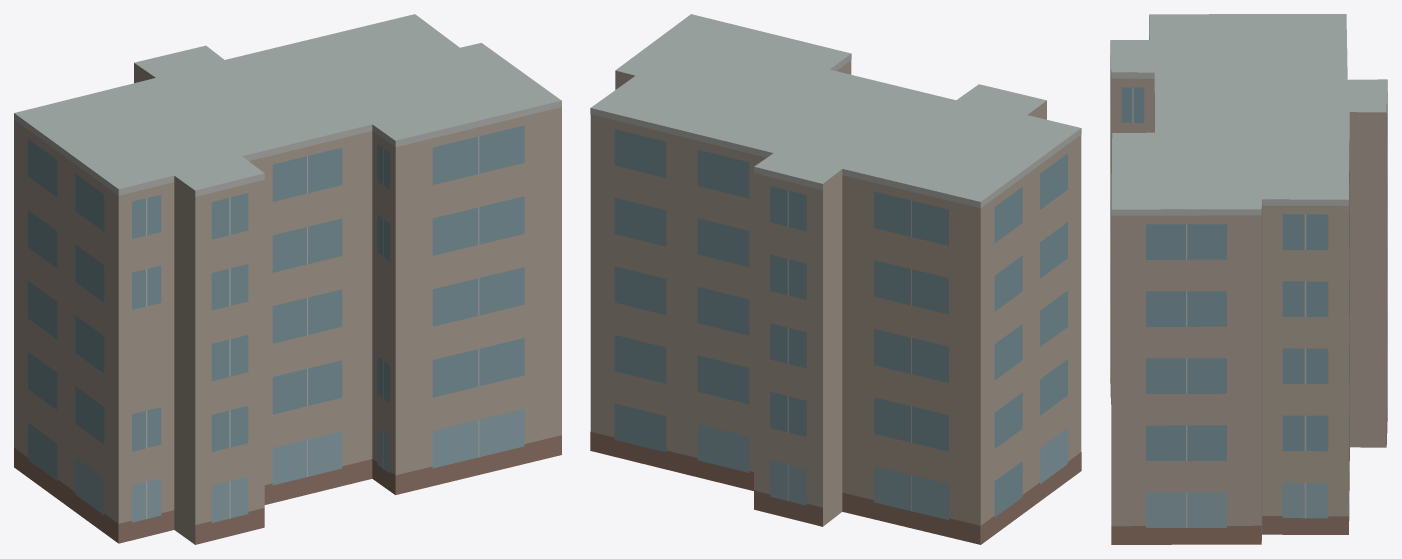
The model's file is survey-upis-32815985.glb.
3 views of the same model, side by side, from view 1: azimuth 30°, elevation 25°; view 2: azimuth 150°, elevation 25°; view 3: azimuth 270°, elevation 25° (orthographic). The views are drawn at different scales.
Visible parts, largest first — view 1: survey-upis-32815985.tmp; view 2: survey-upis-32815985.tmp; view 3: survey-upis-32815985.tmp.
Boxes of the visible parts, x1,y1,x2,y2 form: survey-upis-32815985.tmp: (14, 14, 561, 544); survey-upis-32815985.tmp: (590, 14, 1081, 544); survey-upis-32815985.tmp: (1110, 14, 1387, 544).
Bounding box in the file's own units: 16.65 × 13.3 × 9.97.
